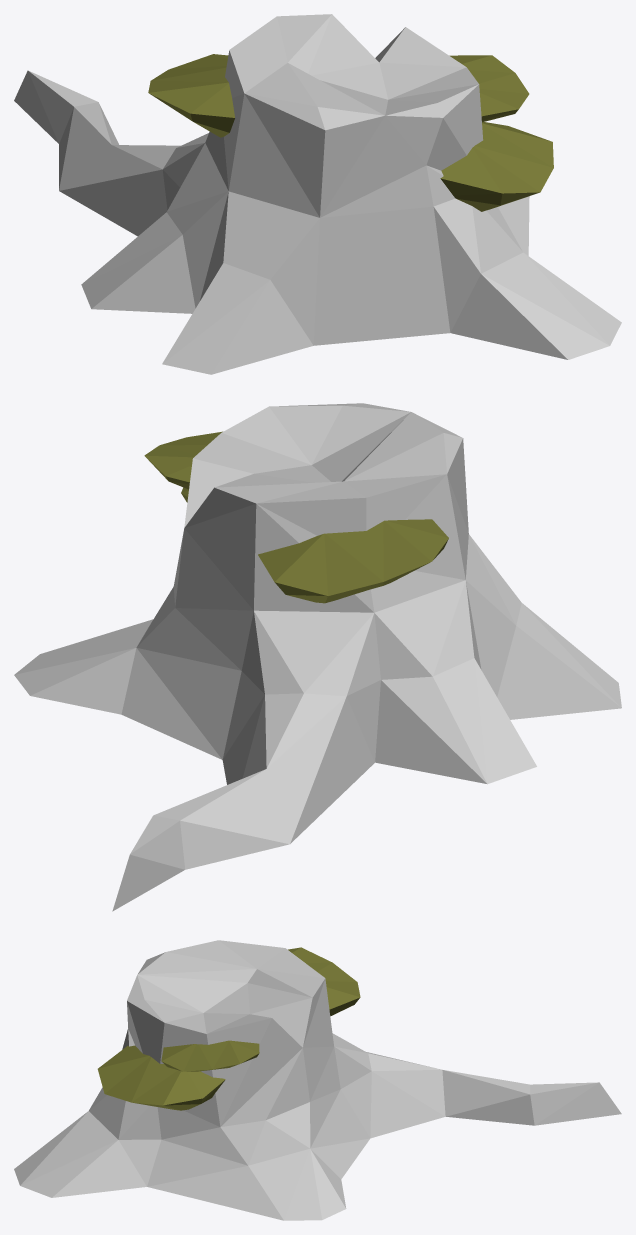
File: NW_NATURE_BAUMSTUMPF_03_174P.OBJ
3 renders of one model, top to bottom at view 1: azimuth 30°, elevation 25°; view 2: azimuth 150°, elevation 25°; view 3: azimuth 270°, elevation 25°, orthographic. The views are drawn at different scales.
Parts seen in each view (by area): view 1: NW_NATURE_BAUMSTUMPF_03_174P; view 2: NW_NATURE_BAUMSTUMPF_03_174P; view 3: NW_NATURE_BAUMSTUMPF_03_174P.
Part boxes in pixels (left/top/right/bottom): NW_NATURE_BAUMSTUMPF_03_174P: left=14, top=14, right=621, bottom=374; NW_NATURE_BAUMSTUMPF_03_174P: left=14, top=403, right=621, bottom=911; NW_NATURE_BAUMSTUMPF_03_174P: left=14, top=940, right=621, bottom=1220.
Size of the model in its own units: 2.66 by 1.22 by 4.13.
